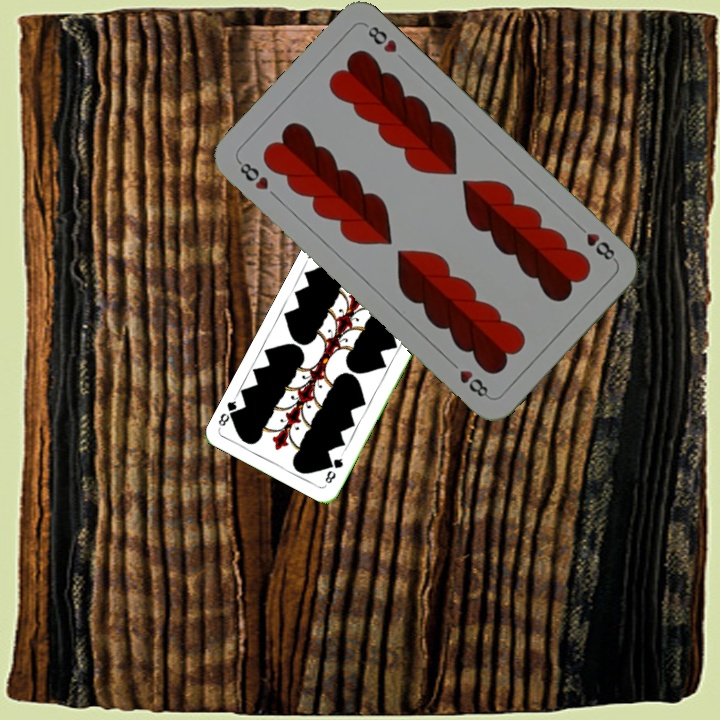G8: (321, 450, 346, 486)
H8: (572, 220, 619, 265), (233, 156, 271, 193)
